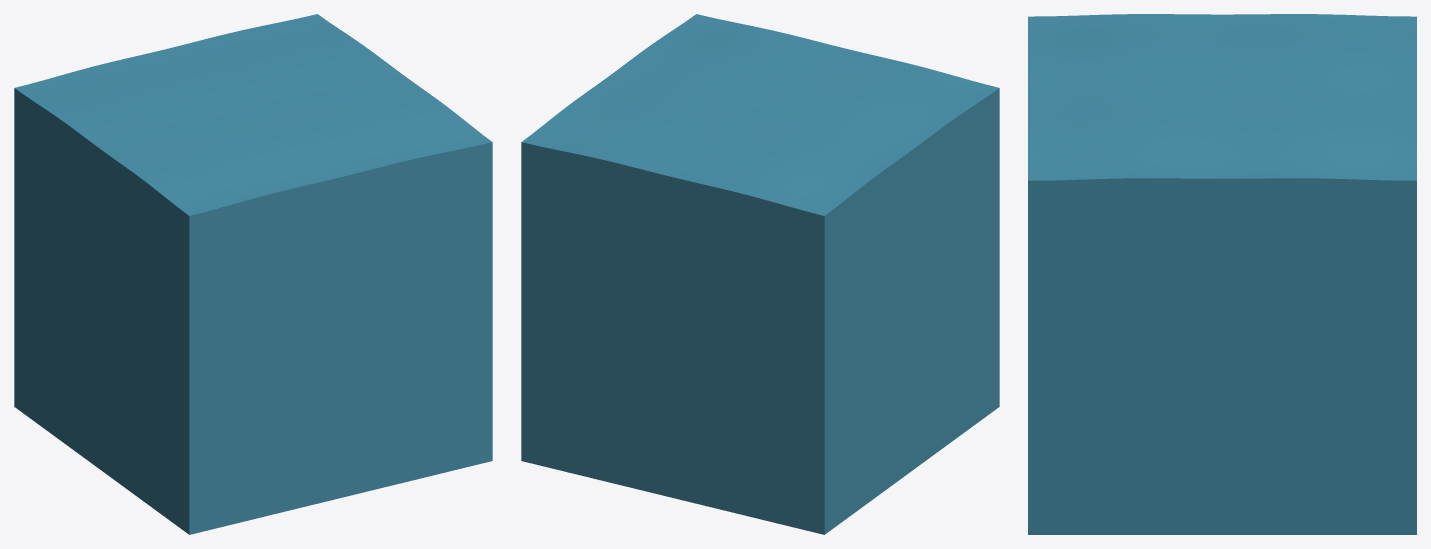
File: slpool_wave55.glb
3 views of the same model, side by side, from view 1: azimuth 30°, elevation 25°; view 2: azimuth 150°, elevation 25°; view 3: azimuth 270°, elevation 25° (orthographic). The views are drawn at different scales.
Parts seen in each view (by area): view 1: poolWater; view 2: poolWater; view 3: poolWater.
Part boxes in pixels (bbox=[...]): poolWater: bbox=[14, 14, 492, 534]; poolWater: bbox=[521, 14, 999, 534]; poolWater: bbox=[1028, 14, 1416, 534].
Bounding box in the file's own units: 2 × 2.04 × 2.
